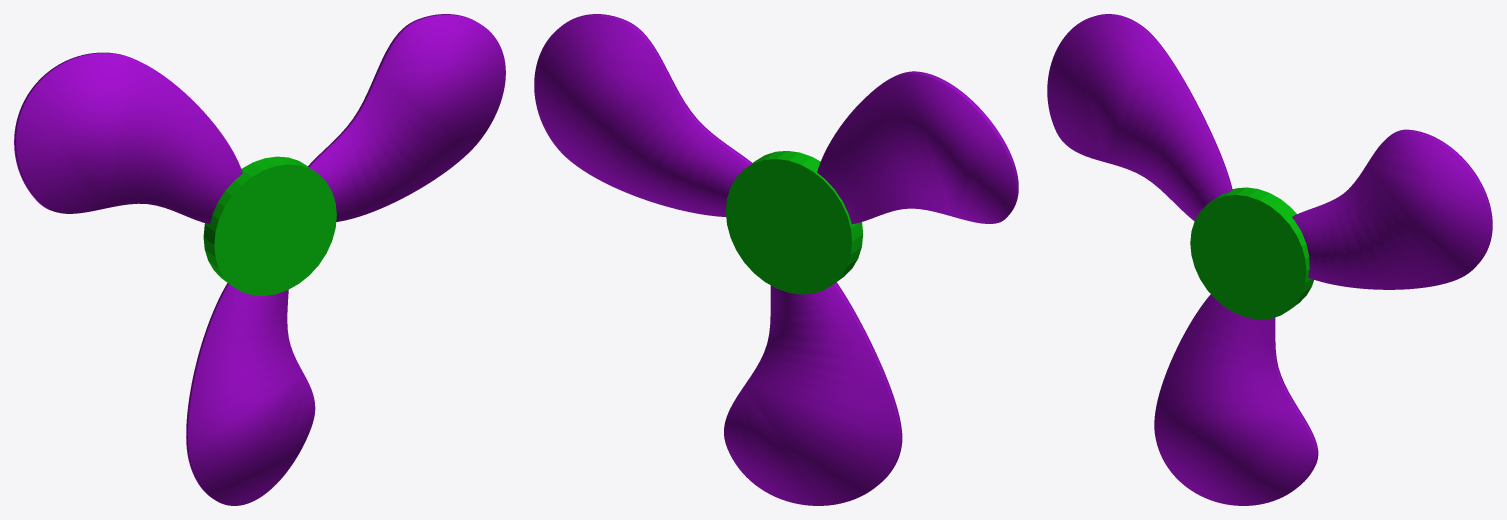
Rendered from propeller.obj.
3 views of the same model, side by side, from view 1: azimuth 30°, elevation 25°; view 2: azimuth 150°, elevation 25°; view 3: azimuth 330°, elevation 25° (orthographic). The views are drawn at different scales.
Visible parts, largest first — view 1: 円.004, 円.003, 円.002, 円柱.001; view 2: 円.002, 円.003, 円.004, 円柱.001; view 3: 円.002, 円.003, 円.004, 円柱.001.
Boxes of the visible parts, box(x1,y1,x2,y2) form: 円.004: box(14, 52, 242, 223); 円.003: box(308, 14, 505, 221); 円.002: box(186, 283, 315, 505); 円柱.001: box(203, 156, 336, 295); 円.002: box(724, 282, 902, 505); 円.003: box(534, 14, 752, 216); 円.004: box(817, 71, 1018, 224); 円柱.001: box(725, 151, 863, 294); 円.002: box(1154, 294, 1318, 505); 円.003: box(1292, 129, 1492, 289); 円.004: box(1047, 14, 1232, 220); 円柱.001: box(1190, 187, 1313, 319).
Size of the model in its own units: 149 by 139 by 21.34.
